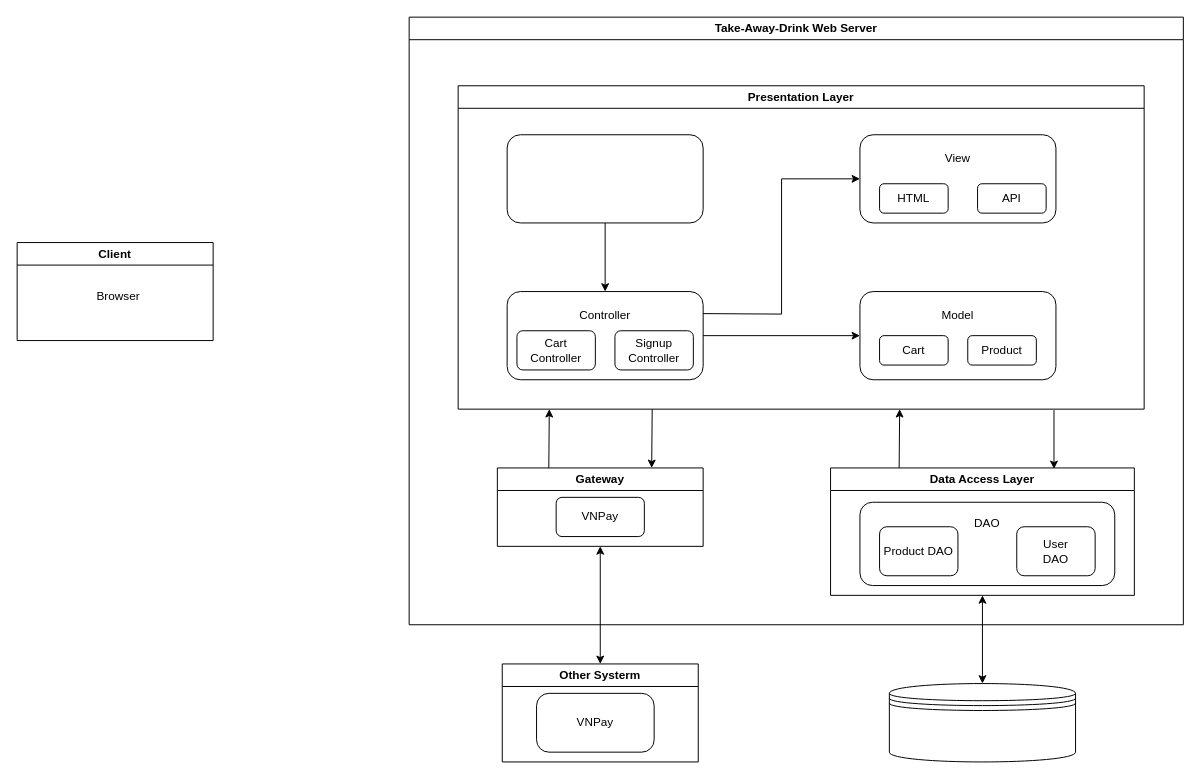
Image size: 1201x779. Some labels were removed from this diagram. Each missing label, with the centre of its shape:
"Database" goes at (982,722).
"Http Servlet Filter" goes at (604,178).
